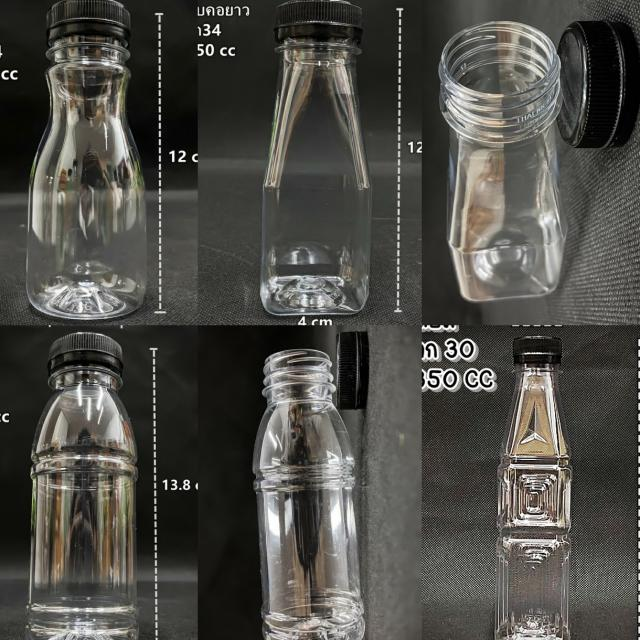plastik: (26, 0, 147, 319), (438, 21, 567, 302), (260, 0, 371, 315), (26, 332, 138, 640), (253, 349, 365, 640), (495, 337, 572, 640)
